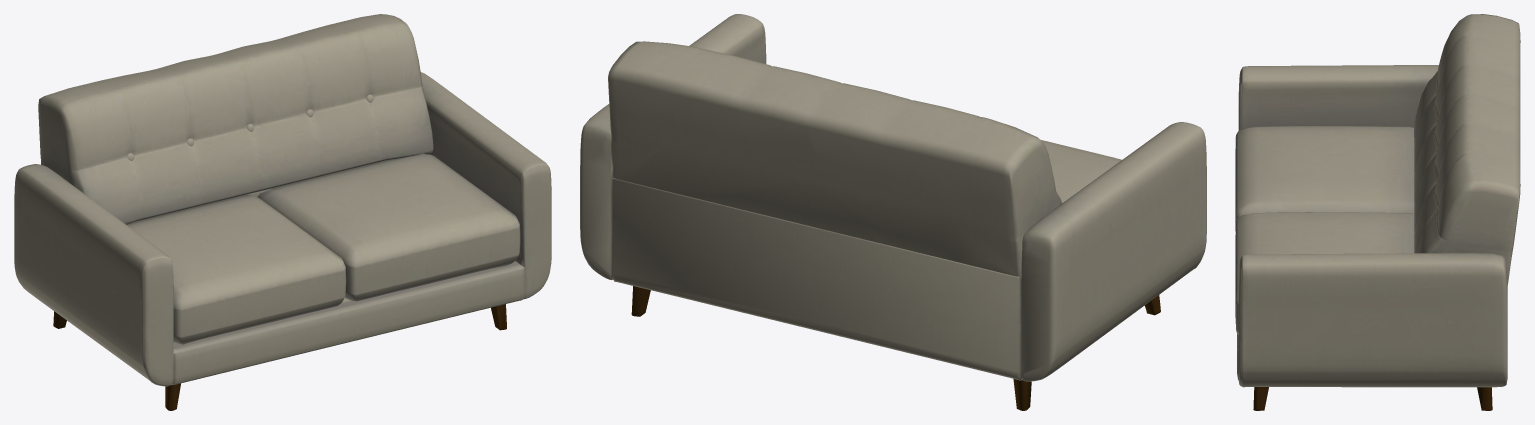
The model's file is loveseat_abo_B072PZVY6C.glb.
The picture shows the model from 3 angles, left to right: view 1: azimuth 30°, elevation 25°; view 2: azimuth 150°, elevation 25°; view 3: azimuth 270°, elevation 25°; orthographic projection. The views are drawn at different scales.
Visible parts, largest first — view 1: RootNode; view 2: RootNode; view 3: RootNode.
Boxes of the visible parts, <box> form: RootNode: <box>14,14,551,410</box>; RootNode: <box>580,14,1206,410</box>; RootNode: <box>1235,14,1520,410</box>.
Size of the model in its own units: 1.65 by 0.8915 by 0.9804.
1 material, 1 textured.
